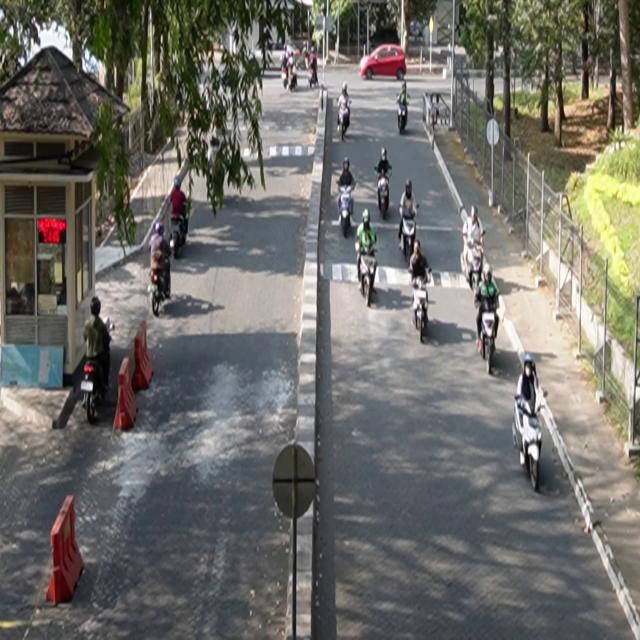car: (360, 44, 408, 82)
